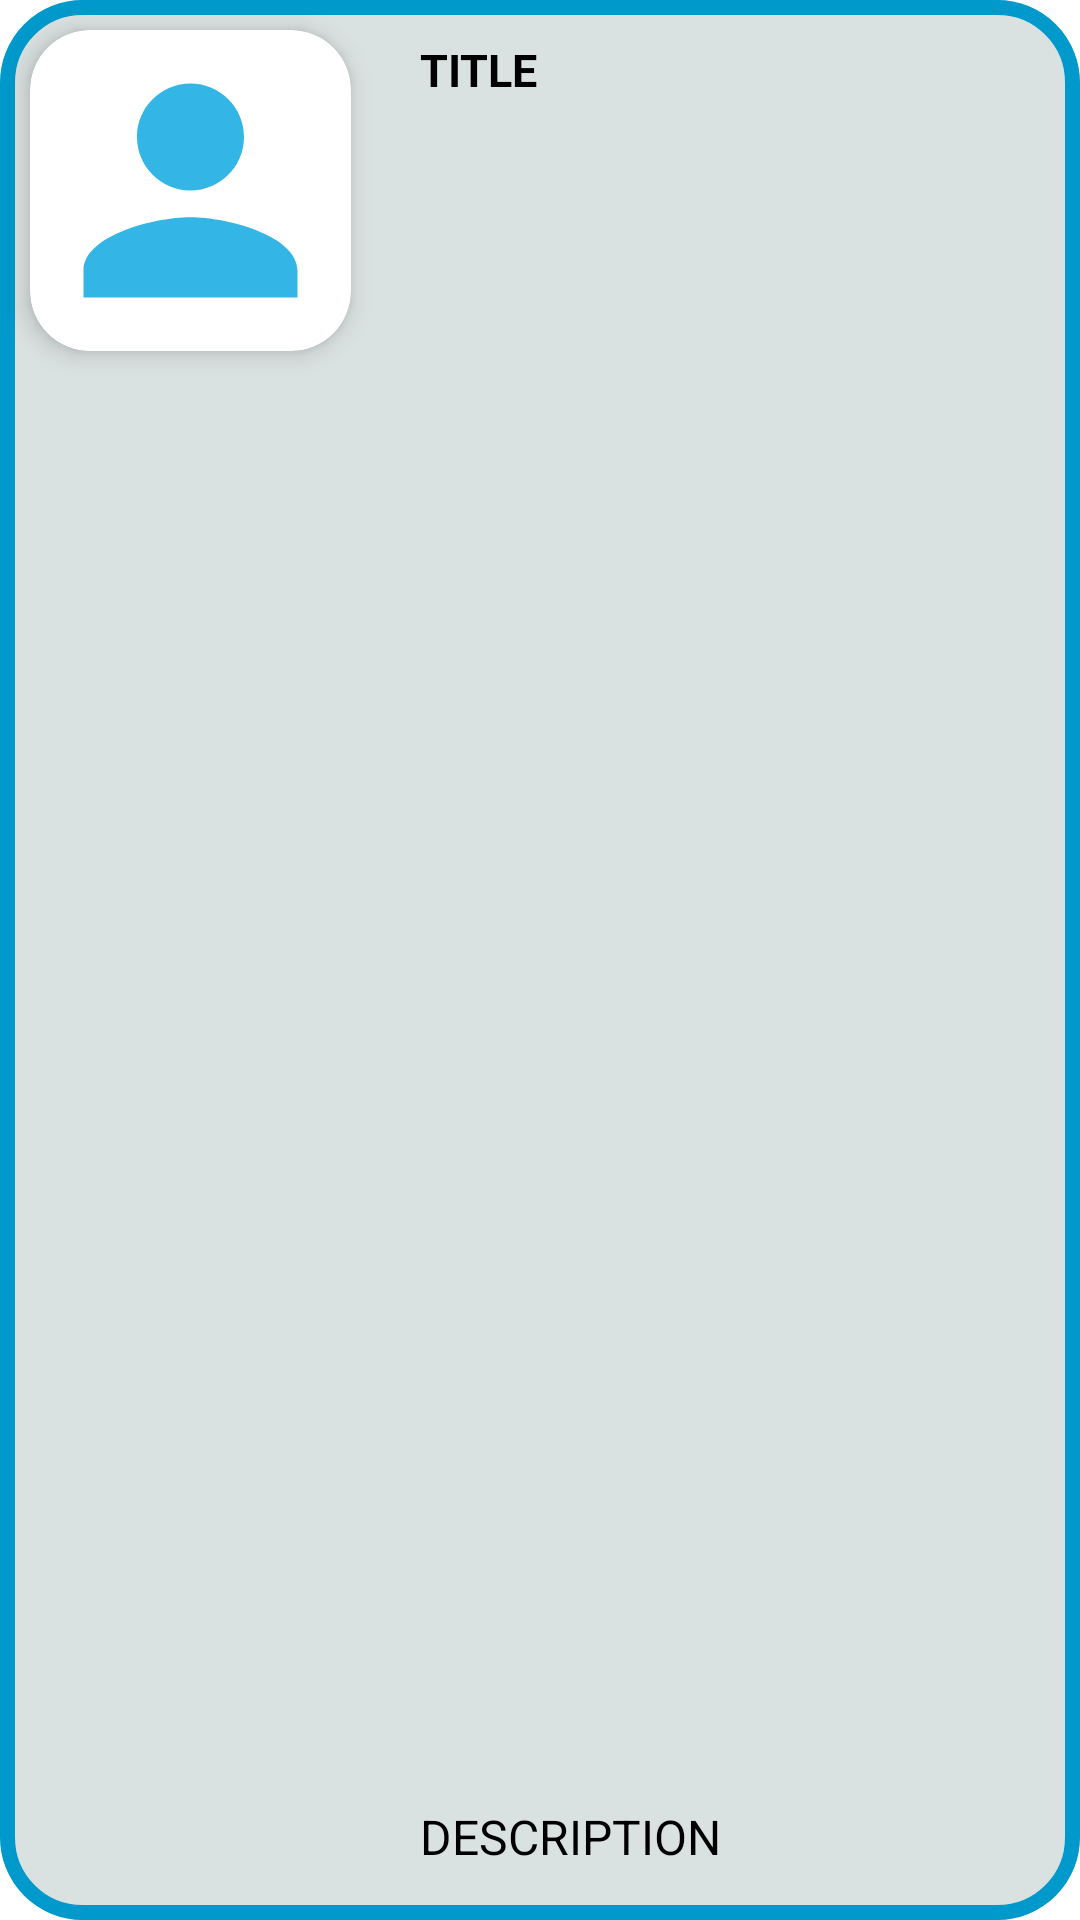

Named icons in this screenshot (1080×1920) and their centers, point (x, y):
person: point (190, 190)
